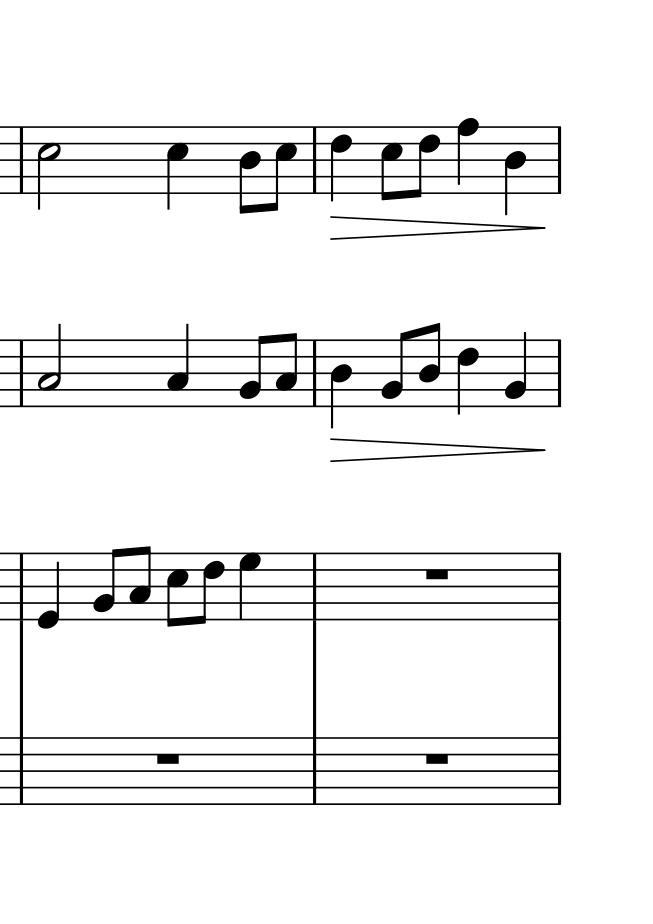2_3: (37, 324, 62, 407)
2_5: (36, 125, 60, 210)
4_0: (37, 550, 62, 631)
4_2: (503, 330, 528, 409)
4_3: (166, 325, 191, 408)
4_4: (329, 339, 354, 429), (504, 126, 527, 217)
4_5: (165, 126, 191, 209)
4_6: (328, 125, 352, 203), (455, 340, 479, 416)
4_7: (237, 551, 262, 620)
4_8: (455, 116, 479, 195)
8_2: (379, 330, 411, 407), (91, 547, 122, 621), (237, 334, 267, 408)
8_3: (274, 331, 298, 409), (128, 544, 151, 622)
8_4: (237, 125, 261, 217), (418, 321, 441, 409)
8_5: (267, 125, 297, 214), (379, 124, 403, 203), (165, 550, 189, 629)
8_6: (196, 552, 226, 626), (411, 124, 440, 200)
Diminuendo_hairpin: (330, 213, 547, 241), (329, 437, 542, 462)
Rests1: (152, 750, 182, 767), (422, 751, 452, 767), (422, 566, 451, 582)
Single_barline: (307, 339, 324, 407), (13, 552, 29, 622), (13, 737, 29, 805), (551, 554, 567, 620), (552, 340, 567, 408), (307, 737, 322, 805), (307, 553, 322, 620), (14, 127, 29, 193), (552, 127, 567, 192), (551, 739, 566, 804), (14, 339, 28, 406), (309, 125, 322, 193)
